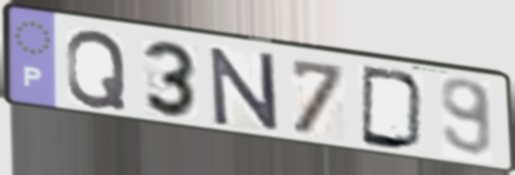3: (139, 38, 202, 121)
7: (288, 57, 348, 139)
9: (439, 75, 496, 164)
D: (358, 62, 428, 153)
N: (206, 45, 282, 134)
Q: (63, 28, 129, 113)
